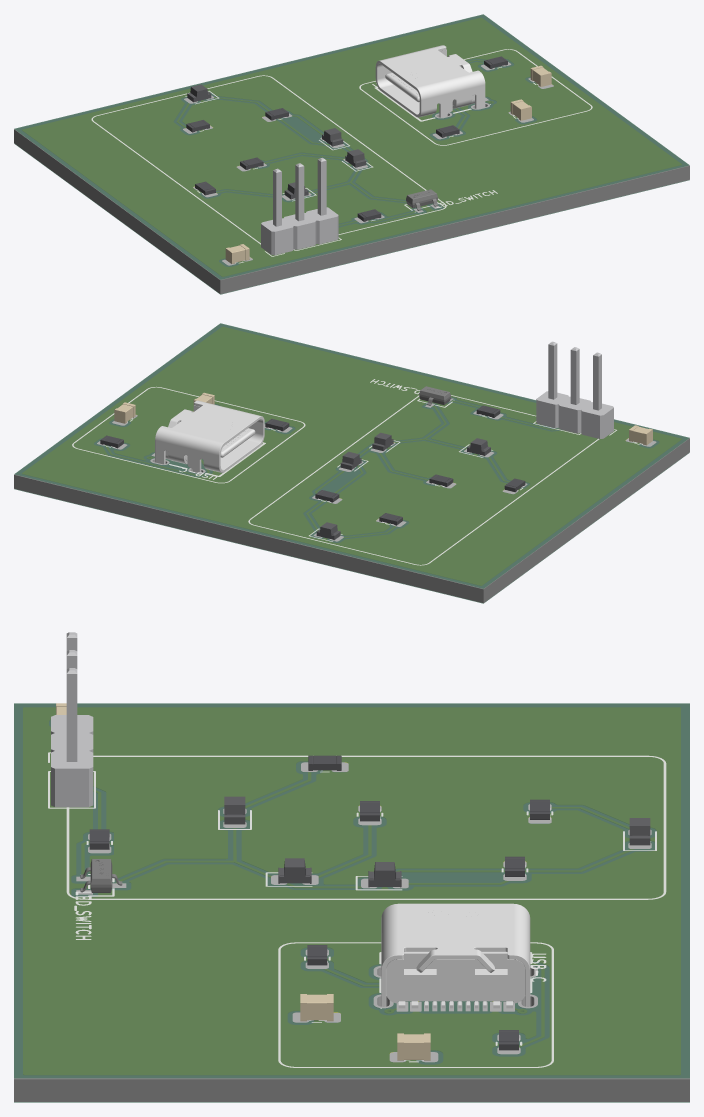
File: board.glb
3 renders of one model, top to bottom at view 1: azimuth 30°, elevation 25°; view 2: azimuth 150°, elevation 25°; view 3: azimuth 270°, elevation 25°, orthographic. The views are drawn at different scales.
Parts seen in each view (by area): view 1: =>[0:1:1:12], =>[0:1:1:8], =>[0:1:1:14], J1, J2, =>[0:1:1:11], =>[0:1:1:9], =>[0:1:1:13], Q1; view 2: =>[0:1:1:12], =>[0:1:1:8], =>[0:1:1:14], J1, J2, =>[0:1:1:11], =>[0:1:1:9], =>[0:1:1:13], Q1; view 3: =>[0:1:1:12], =>[0:1:1:8], =>[0:1:1:14], J1, =>[0:1:1:11], J2, =>[0:1:1:9], C2, Q1, C1, D2, D3.
Boxes of the visible parts, x1=… form: =>[0:1:1:12]: x1=14, y1=14, x2=689, y2=279; =>[0:1:1:8]: x1=22, y1=18, x2=681, y2=276; =>[0:1:1:14]: x1=14, y1=15, x2=689, y2=294; J1: x1=375, y1=45, x2=485, y2=117; J2: x1=261, y1=157, x2=338, y2=255; =>[0:1:1:11]: x1=91, y1=49, x2=592, y2=263; =>[0:1:1:9]: x1=183, y1=62, x2=553, y2=265; =>[0:1:1:13]: x1=14, y1=143, x2=689, y2=294; Q1: x1=406, y1=189, x2=438, y2=210; =>[0:1:1:12]: x1=14, y1=323, x2=689, y2=588; =>[0:1:1:8]: x1=22, y1=327, x2=681, y2=585; =>[0:1:1:14]: x1=14, y1=324, x2=689, y2=603; J1: x1=155, y1=400, x2=264, y2=472; J2: x1=536, y1=341, x2=613, y2=438; =>[0:1:1:11]: x1=72, y1=379, x2=642, y2=565; =>[0:1:1:9]: x1=97, y1=398, x2=656, y2=541; =>[0:1:1:13]: x1=14, y1=452, x2=689, y2=603; Q1: x1=419, y1=386, x2=451, y2=405; =>[0:1:1:12]: x1=14, y1=703, x2=689, y2=1078; =>[0:1:1:8]: x1=23, y1=708, x2=680, y2=1074; =>[0:1:1:14]: x1=14, y1=704, x2=689, y2=1101; J1: x1=381, y1=903, x2=530, y2=1008; =>[0:1:1:11]: x1=48, y1=752, x2=666, y2=1067; J2: x1=51, y1=632, x2=93, y2=807; =>[0:1:1:9]: x1=76, y1=762, x2=651, y2=1062; C2: x1=300, y1=994, x2=333, y2=1021; Q1: x1=80, y1=859, x2=122, y2=892; C1: x1=397, y1=1033, x2=430, y2=1060; D2: x1=278, y1=858, x2=311, y2=883; D3: x1=368, y1=862, x2=401, y2=887.
Bounding box in the file's own units: 0.0532 × 0.0115 × 0.0405.
